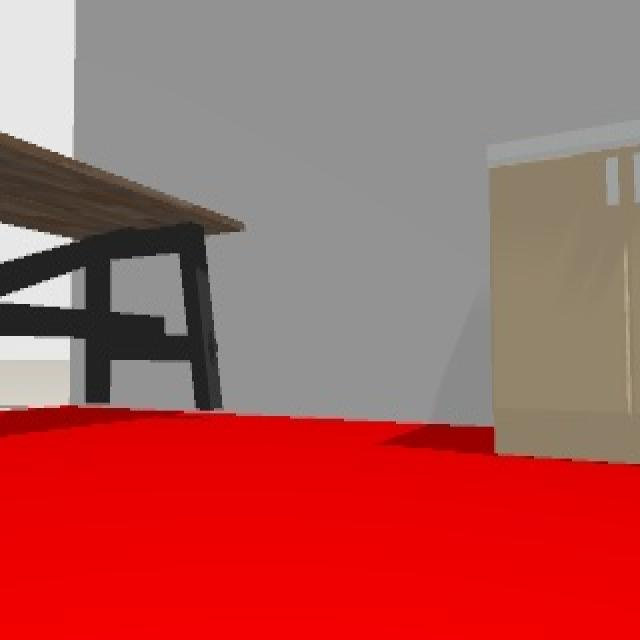dining: (0, 128, 245, 412)
